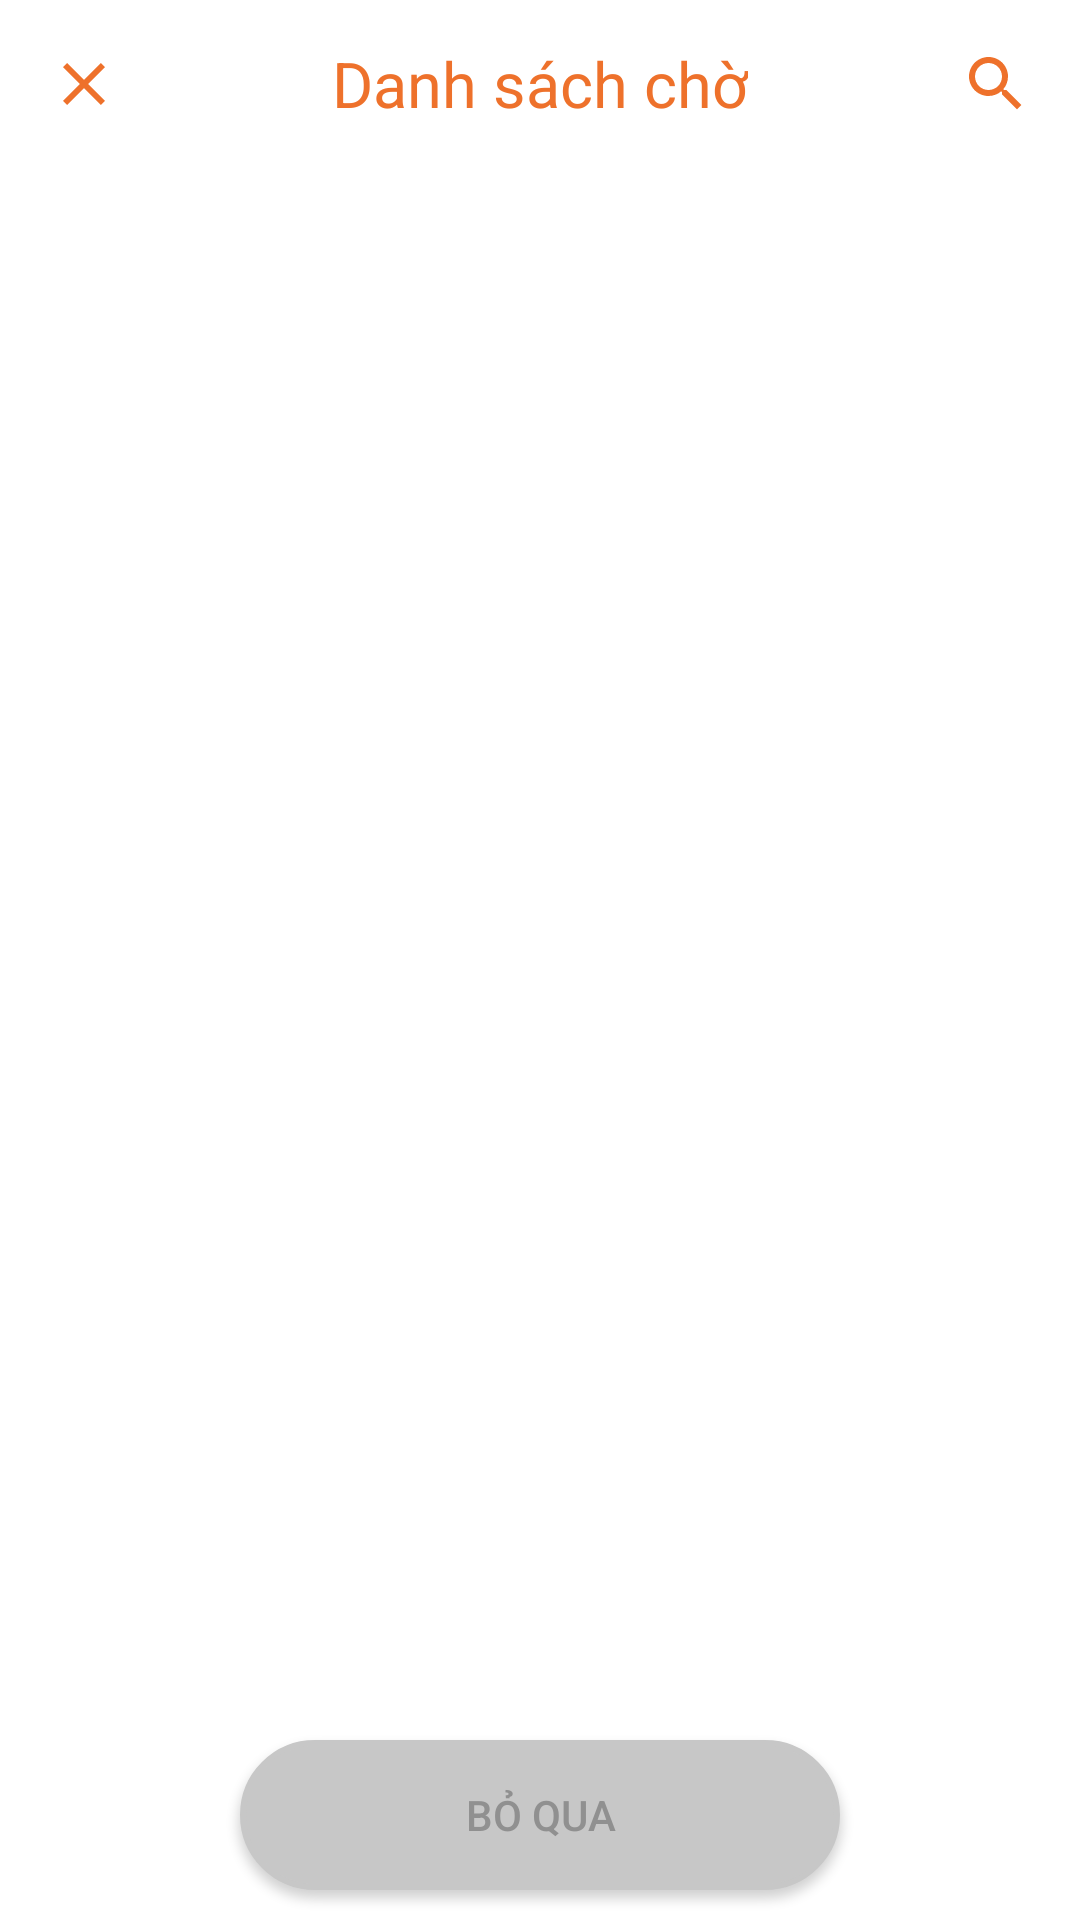

Screen size 1080*1920. Icon name, then its center in pixels as point (x, y):
close: point (84, 84)
search: point (995, 83)
